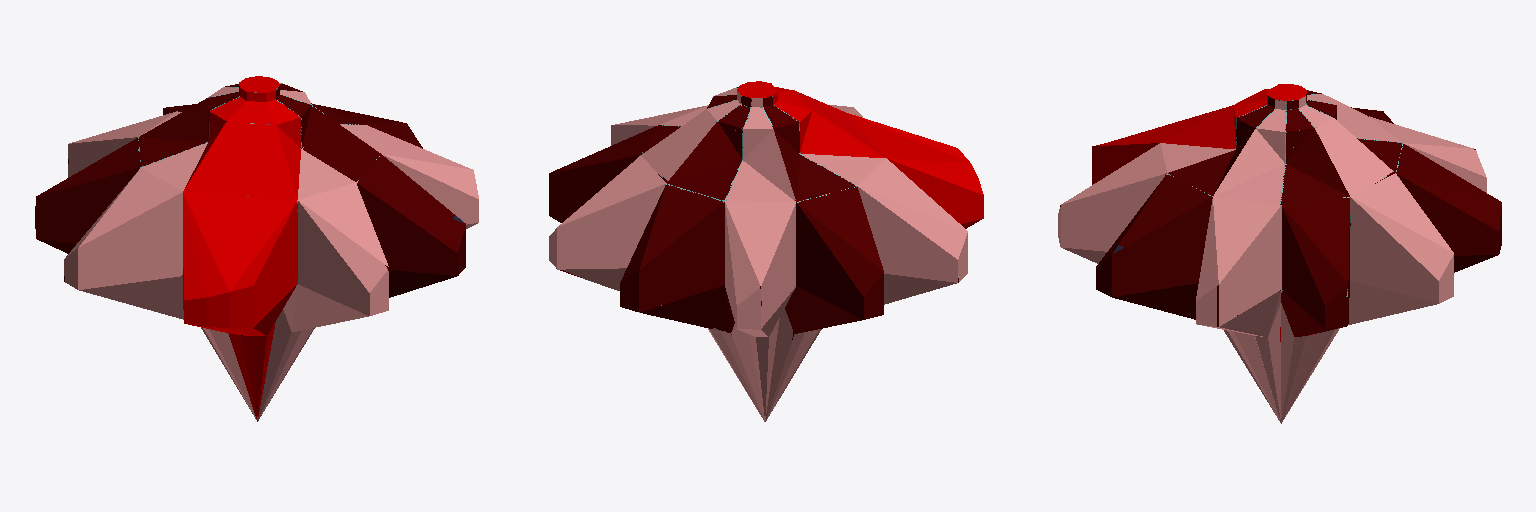
The picture shows the model from 3 angles: view 1: azimuth 30°, elevation 25°; view 2: azimuth 150°, elevation 25°; view 3: azimuth 270°, elevation 25°; orthographic projection.
Visible parts, largest first — view 1: 円錐; view 2: 円錐; view 3: 円錐.
Boxes of the visible parts, x1=… form: 円錐: x1=35, y1=76, x2=478, y2=421; 円錐: x1=549, y1=81, x2=983, y2=421; 円錐: x1=1058, y1=84, x2=1501, y2=423.
Bounding box in the file's own units: 9.87 × 8.25 × 9.93.
Materials: 1 (1 with a texture image).